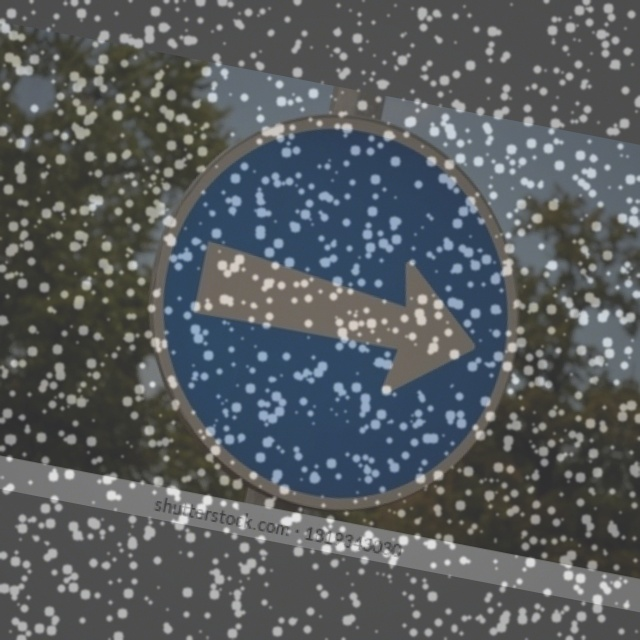Compulsory_Turn_Right: (124, 85, 543, 527)
